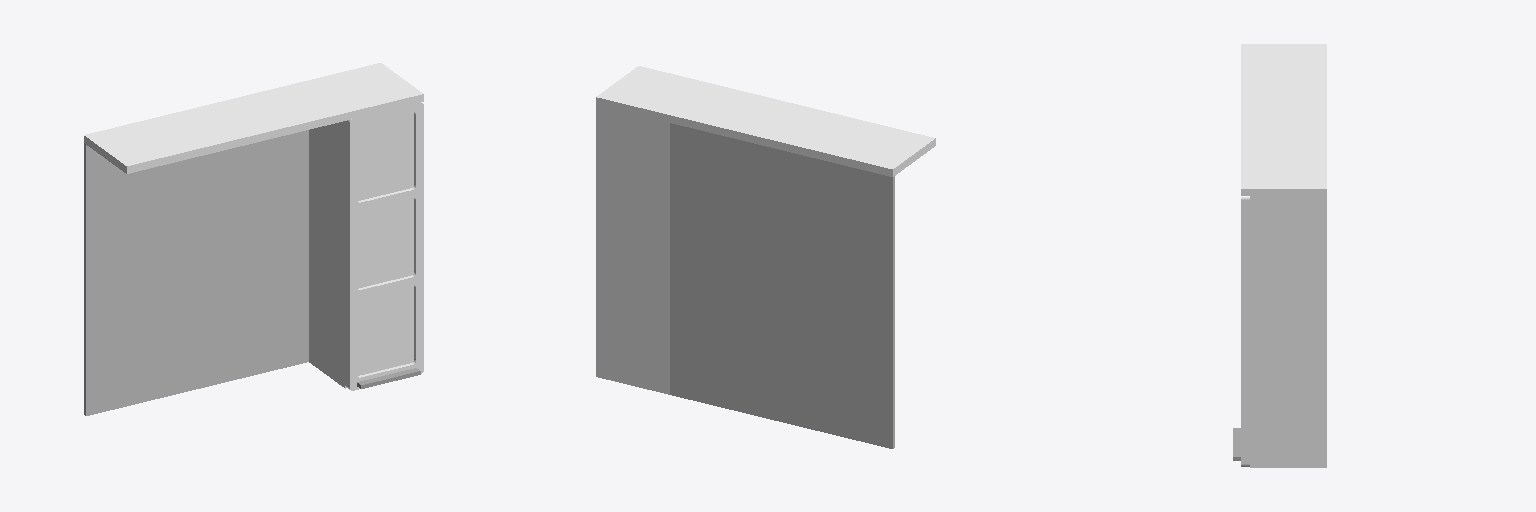
File: bathroom_mirror_cabinet.obj
3 views of the same model, side by side, from view 1: azimuth 30°, elevation 25°; view 2: azimuth 150°, elevation 25°; view 3: azimuth 270°, elevation 25° (orthographic).
Parts seen in each view (by area): view 1: sweethome3d_window_mirror, Box08_1, Box05_7, Box07_10, Rectangle05_8; view 2: sweethome3d_window_mirror, Box07_10, Box08_1; view 3: Box07_10, Box08_1, Rectangle05_8.
Part boxes in pixels (left/top/right/bottom): sweethome3d_window_mirror: left=84, top=130, right=308, bottom=415; Box08_1: left=84, top=63, right=423, bottom=173; Box05_7: left=357, top=112, right=413, bottom=375; Box07_10: left=309, top=121, right=346, bottom=388; Rectangle05_8: left=345, top=102, right=423, bottom=390; sweethome3d_window_mirror: left=670, top=123, right=894, bottom=448; Box07_10: left=596, top=105, right=669, bottom=394; Box08_1: left=596, top=66, right=935, bottom=176; Box07_10: left=1250, top=196, right=1326, bottom=467; Box08_1: left=1241, top=44, right=1326, bottom=195; Rectangle05_8: left=1241, top=196, right=1249, bottom=466.
Size of the model in its own units: 80 by 72 by 22.